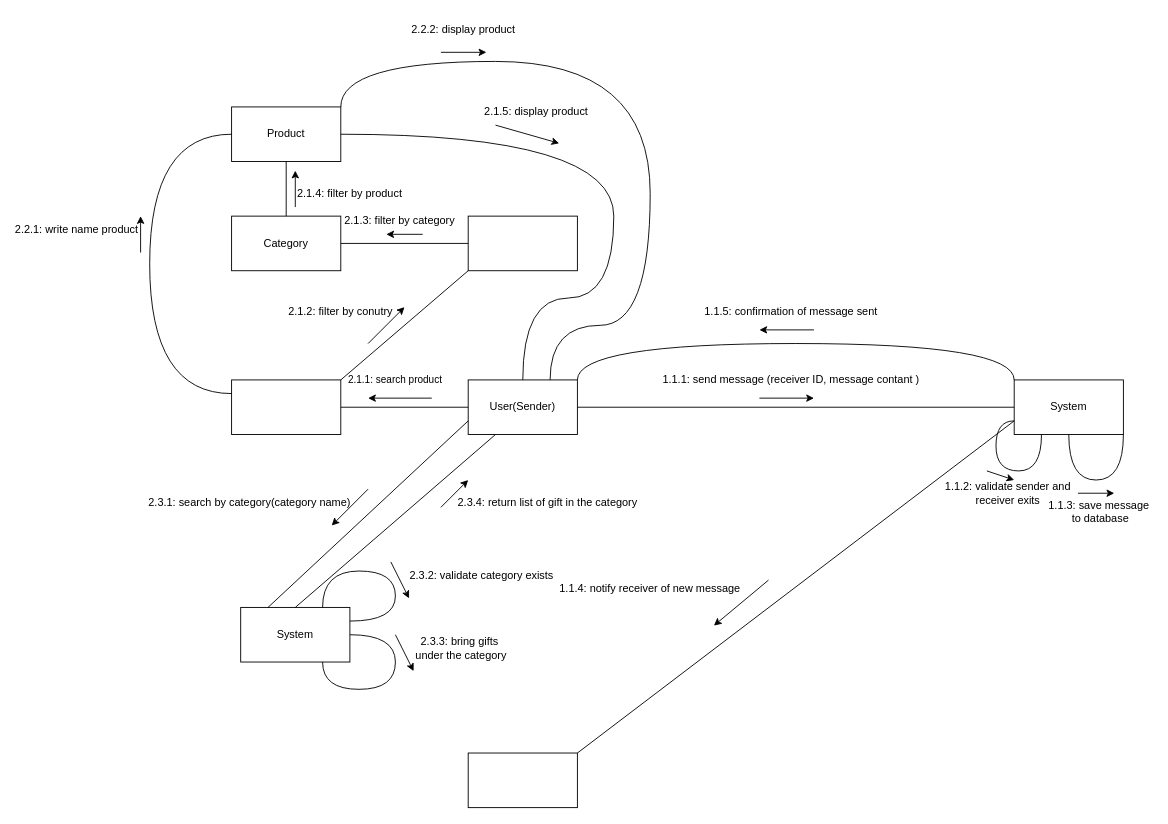
This 1168x824 diagram has some shape labels left out. The box of each missing label's shape, as (x1, y1, x2, y2) in pixels:
Conuty: (467, 215, 577, 271)
Search: (231, 379, 341, 435)
User(Receiver): (467, 752, 577, 808)
